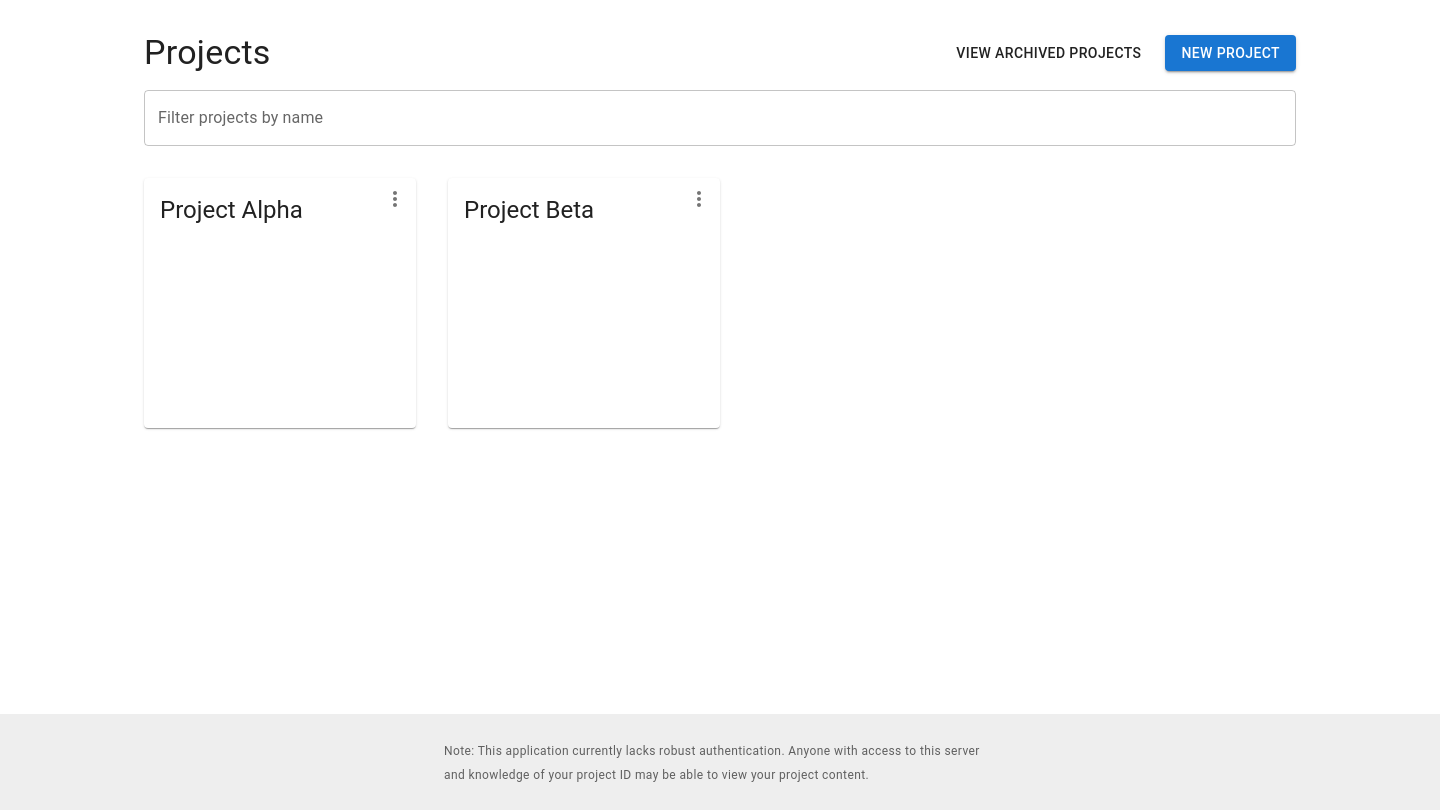
Scenario: ProjectGrid › should open NewProjectModal when "New Project" is clicked
The width and height of the screenshot is (1440, 810).
Expected: the text "Project Alpha" is shown, [160,196,303,224]
What coordinates should you click on to do the following:
click the button "New Project"
I would click on:
 (1231, 53)
Its box is [1165,35,1296,71].
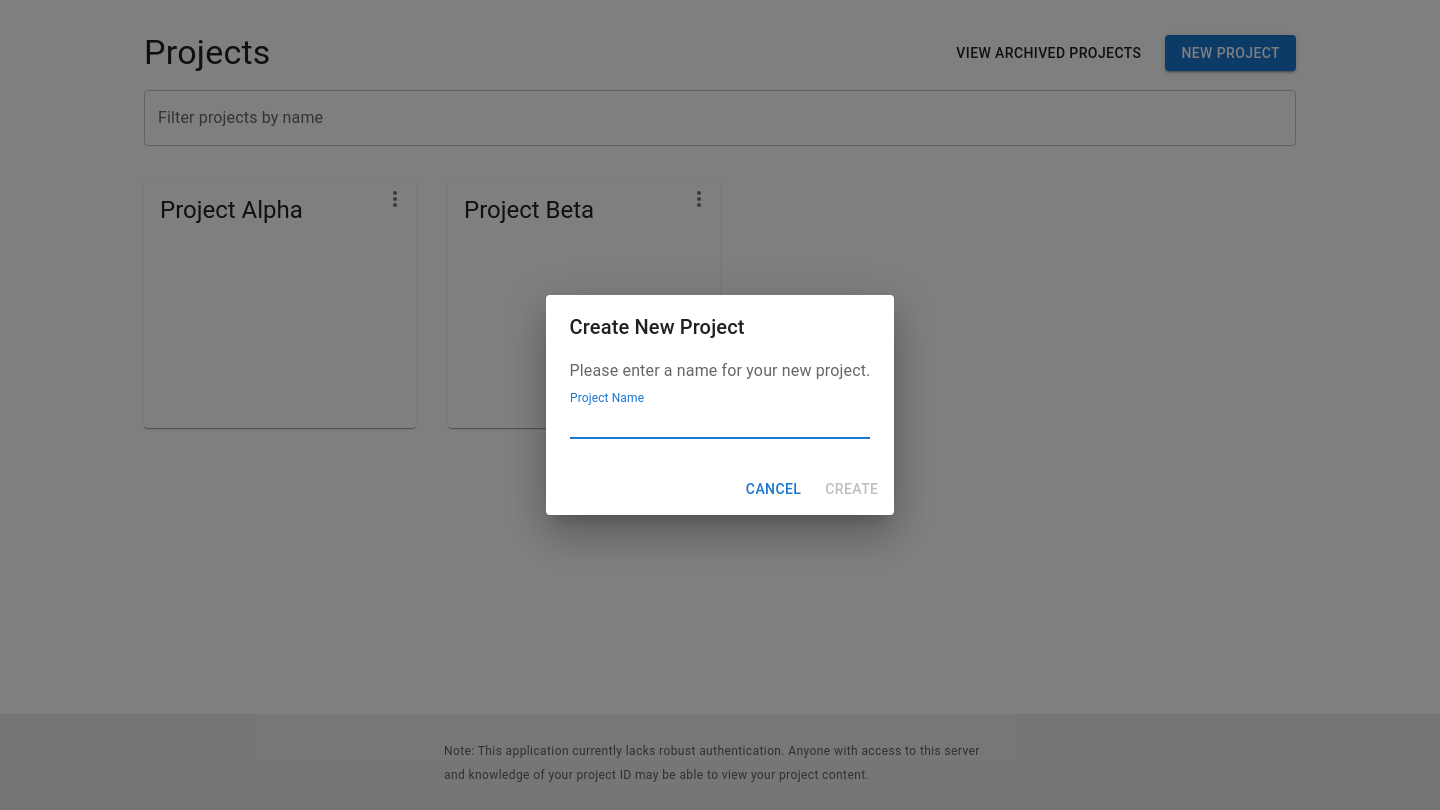
Result: the heading "Create New Project" is shown at [570,315,745,339]
